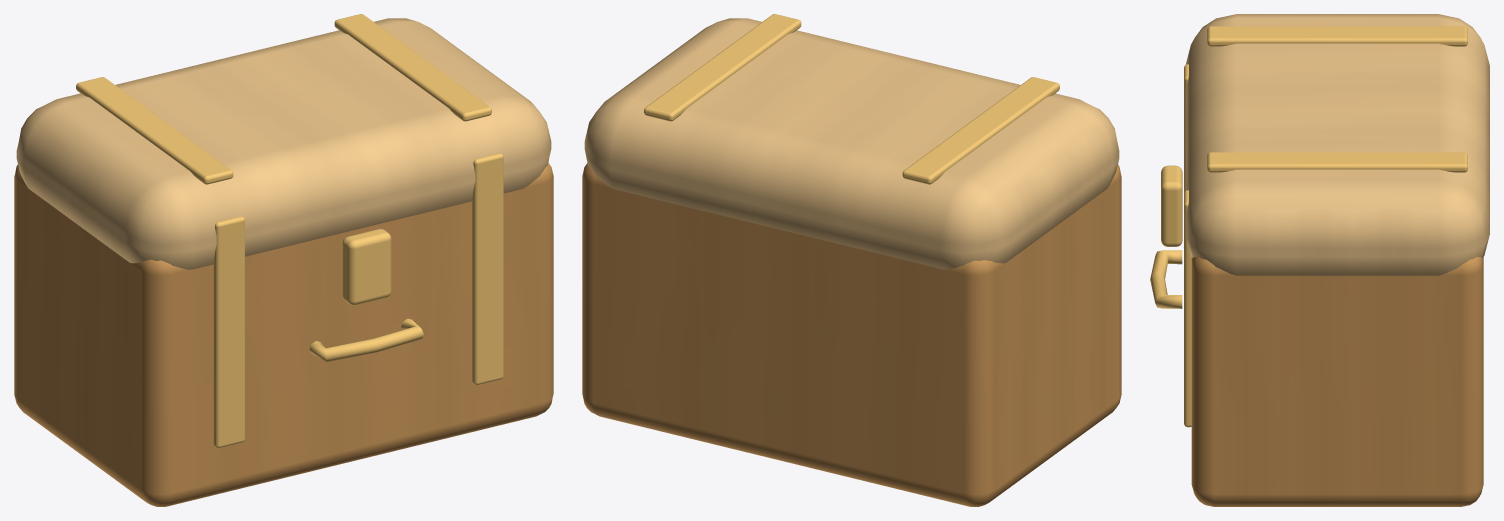
File: CHEST.glb
The picture shows the model from 3 angles, left to right: view 1: azimuth 30°, elevation 25°; view 2: azimuth 150°, elevation 25°; view 3: azimuth 270°, elevation 25°; orthographic projection.
Parts seen in each view (by area): view 1: CHEST; view 2: CHEST; view 3: CHEST.
Part boxes in pixels (x1,y1,x2,y2): CHEST: (14,14,553,506); CHEST: (582,14,1121,506); CHEST: (1150,14,1489,506).
Bounding box in the file's own units: 0.78 × 0.5675 × 0.547.
Materials: 3 (2 with a texture image).
